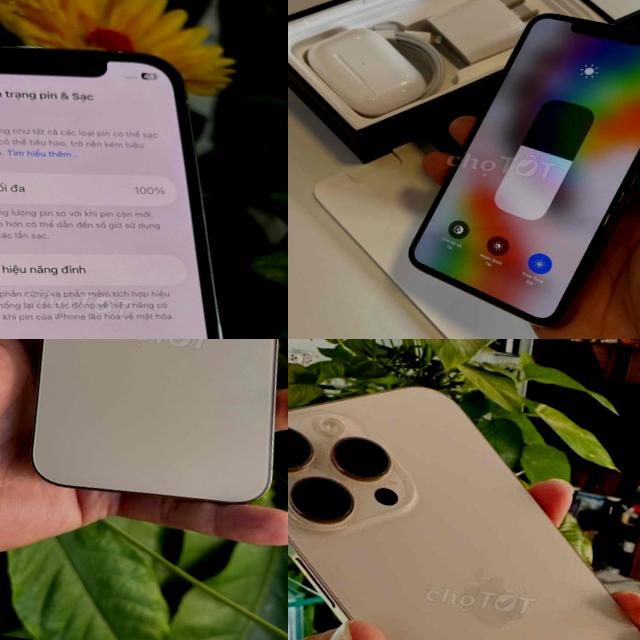gen_11: (394, 0, 640, 339)
gen_12_13: (0, 18, 288, 339), (10, 339, 288, 523)
gen_16: (288, 387, 640, 640)
